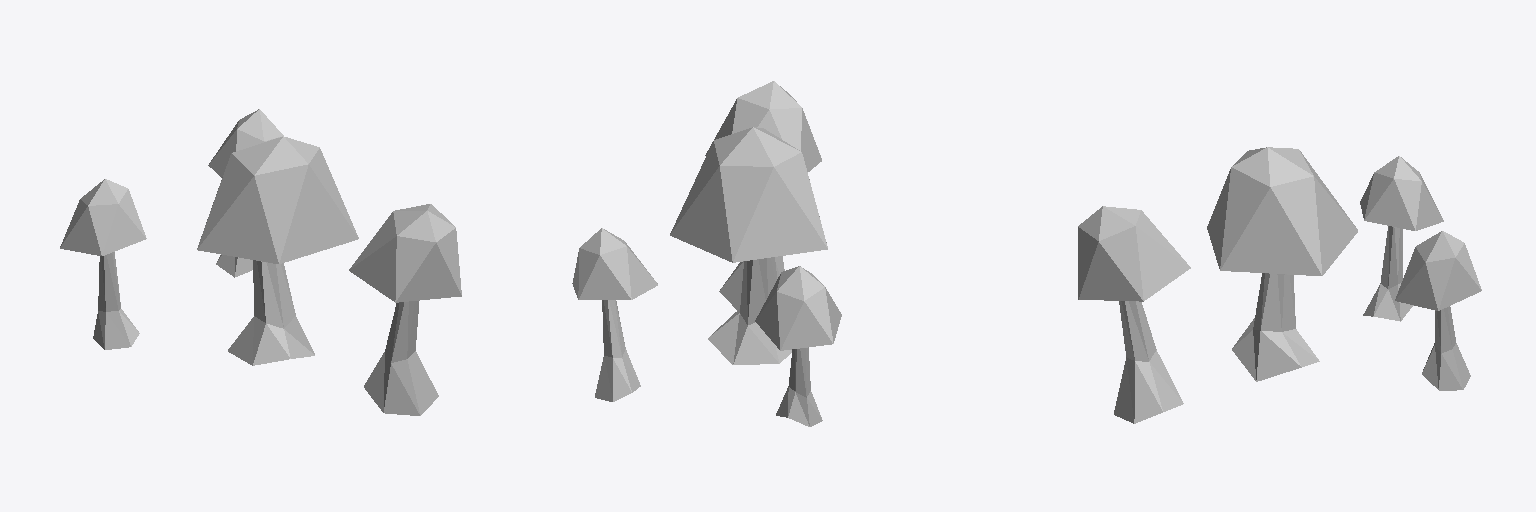
File: mushroom_group_1.obj
The picture shows the model from 3 angles: view 1: azimuth 30°, elevation 25°; view 2: azimuth 150°, elevation 25°; view 3: azimuth 270°, elevation 25°; orthographic projection.
Parts seen in each view (by area): view 1: mushroom_group_1; view 2: mushroom_group_1; view 3: mushroom_group_1.
Part boxes in pixels (bbox=[...]): mushroom_group_1: bbox=[60, 109, 461, 415]; mushroom_group_1: bbox=[572, 81, 841, 426]; mushroom_group_1: bbox=[1078, 147, 1481, 423].
Size of the model in its own units: 0.766 by 0.6657 by 1.02.